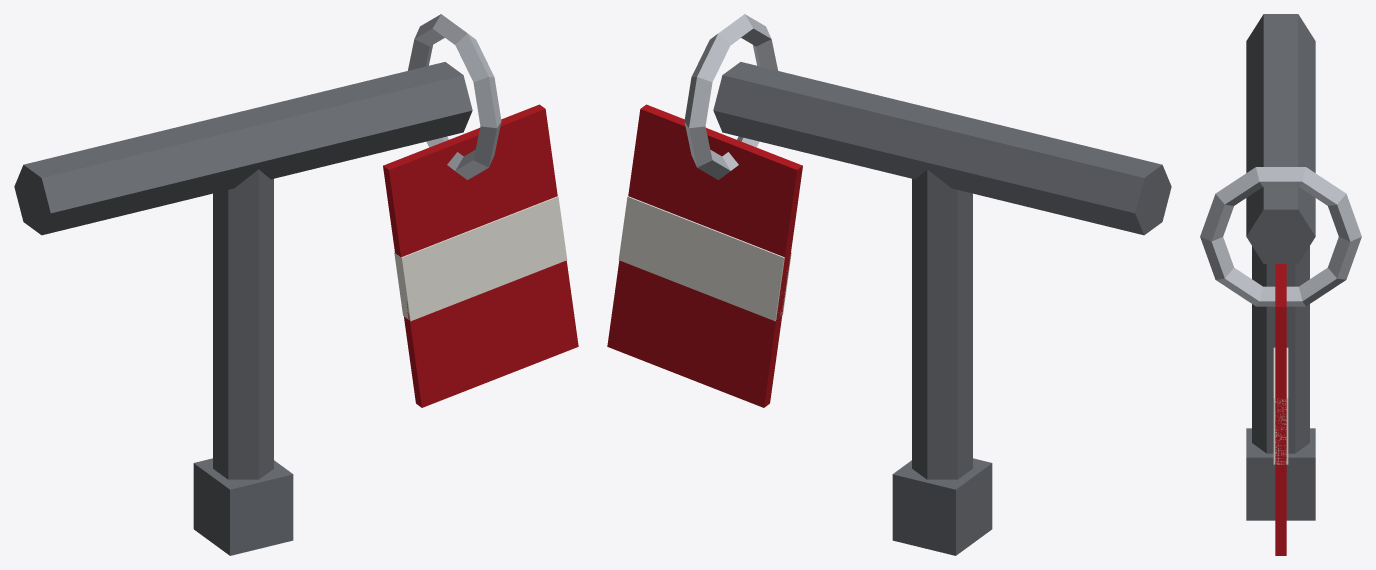
Rendered from stadium-key.glb.
3 views of the same model, side by side, from view 1: azimuth 30°, elevation 25°; view 2: azimuth 150°, elevation 25°; view 3: azimuth 270°, elevation 25° (orthographic). The views are drawn at different scales.
Visible parts, largest first — view 1: stadium_key; view 2: stadium_key; view 3: stadium_key.
Boxes of the visible parts, x1=… form: stadium_key: x1=14, y1=14, x2=578, y2=555; stadium_key: x1=607, y1=14, x2=1171, y2=555; stadium_key: x1=1200, y1=14, x2=1361, y2=555.
Bounding box in the file's own units: 0.103 × 0.0833 × 0.028.
